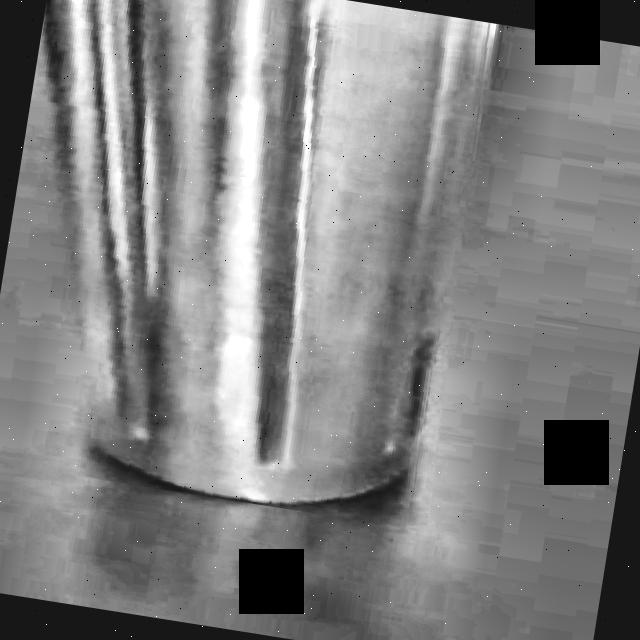bottle: (42, 0, 489, 510)
